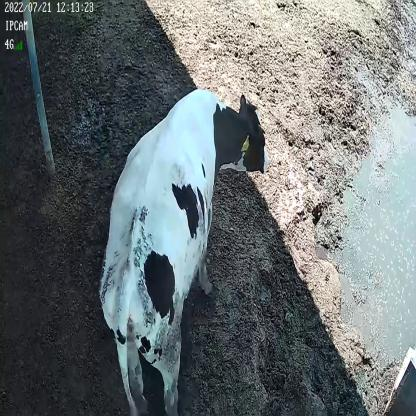cow: (96, 86, 272, 416)
